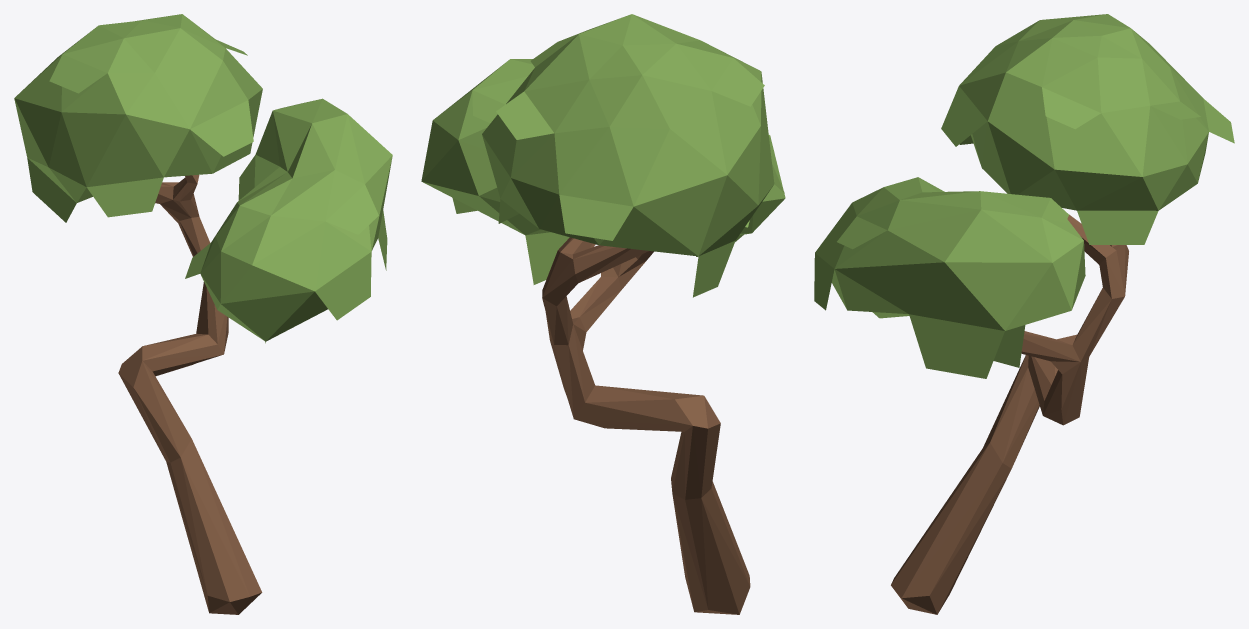
The model's file is Tree_5.fbx.
3 views of the same model, side by side, from view 1: azimuth 30°, elevation 25°; view 2: azimuth 150°, elevation 25°; view 3: azimuth 270°, elevation 25° (orthographic). The views are drawn at different scales.
Visible parts, largest first — view 1: Tree_5; view 2: Tree_5; view 3: Tree_5.
Part boxes in pixels (box(x1,y1,x2,y2)): Tree_5: box(14, 14, 392, 614); Tree_5: box(421, 14, 785, 614); Tree_5: box(814, 14, 1234, 614).
Bounding box in the file's own units: 153 × 260 × 172.
